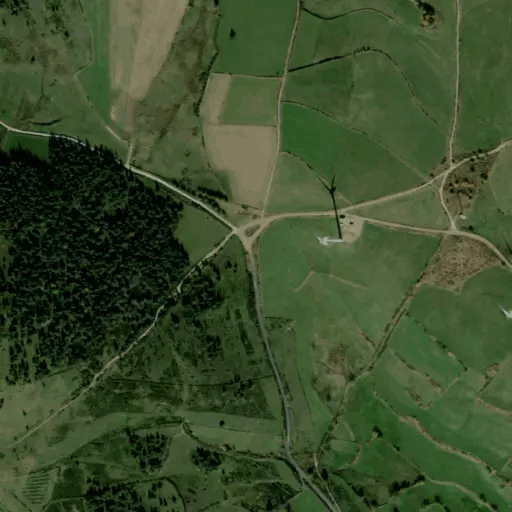wt: (308, 170, 352, 252), (498, 231, 512, 321)
